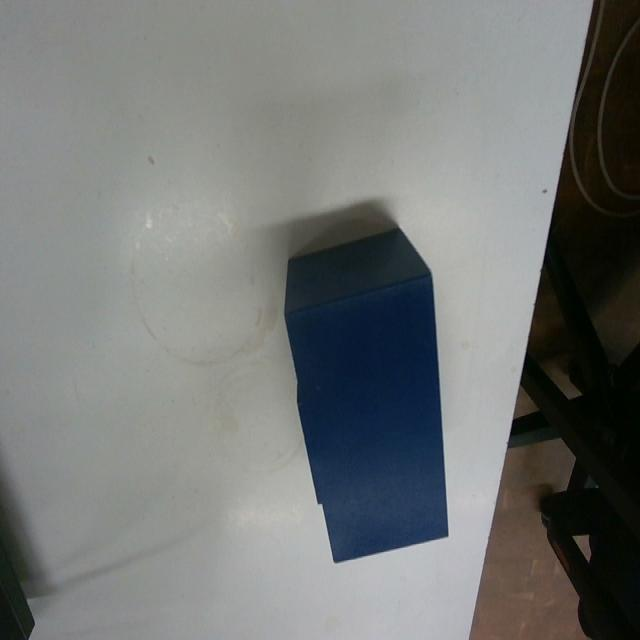Blue Cuboid: (281, 223, 451, 564)
